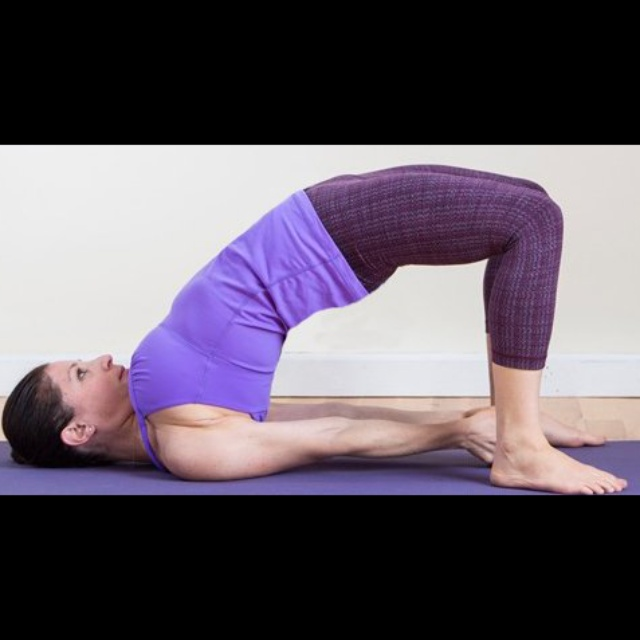Bridge_Pose: (2, 157, 631, 495)
